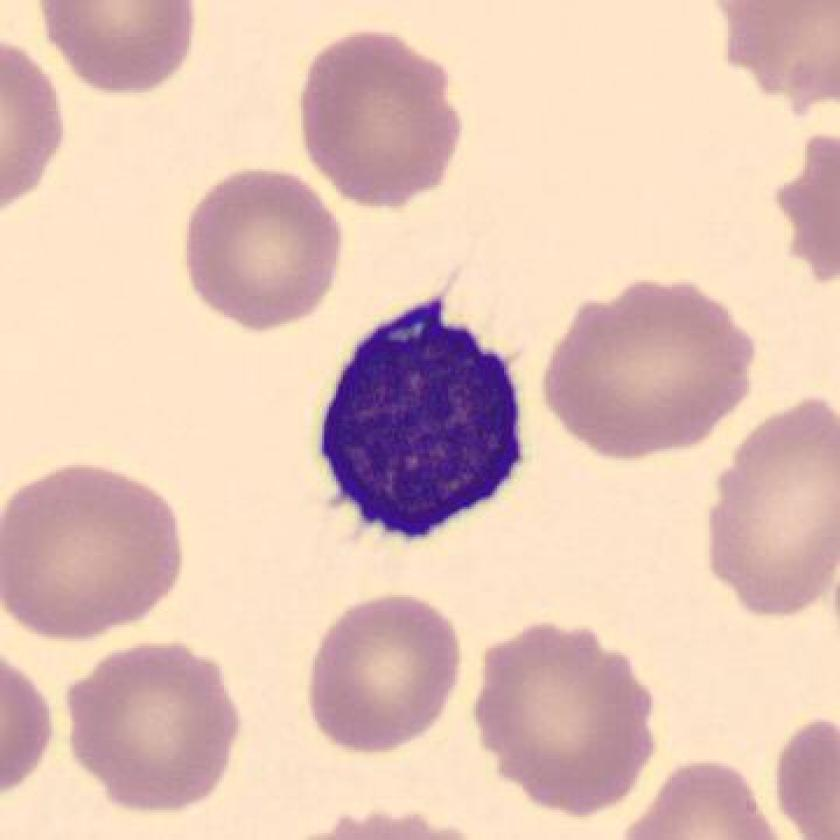lymphocyte: (302, 270, 549, 571)
